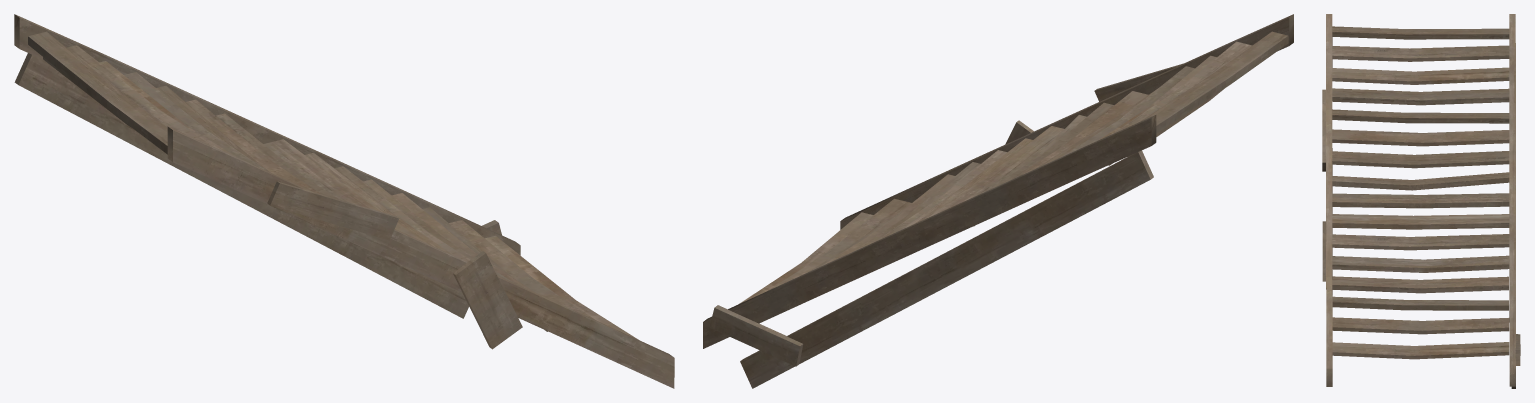
3 views of the same model, side by side, from view 1: azimuth 30°, elevation 25°; view 2: azimuth 150°, elevation 25°; view 3: azimuth 270°, elevation 25° (orthographic). The views are drawn at different scales.
Visible parts, largest first — view 1: body0_model0_lod0_mesh0; view 2: body0_model0_lod0_mesh0; view 3: body0_model0_lod0_mesh0.
Boxes of the visible parts, bbox=[...] form: body0_model0_lod0_mesh0: bbox=[14, 14, 674, 388]; body0_model0_lod0_mesh0: bbox=[703, 14, 1293, 388]; body0_model0_lod0_mesh0: bbox=[1322, 14, 1520, 388].
Bounding box in the file's own units: 204 × 160 × 117.
1 material, 1 textured.
